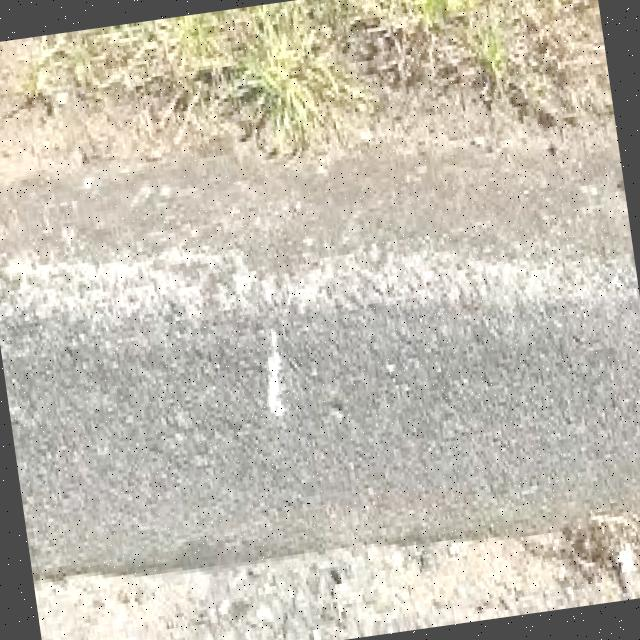curb: (1, 134, 640, 582)
